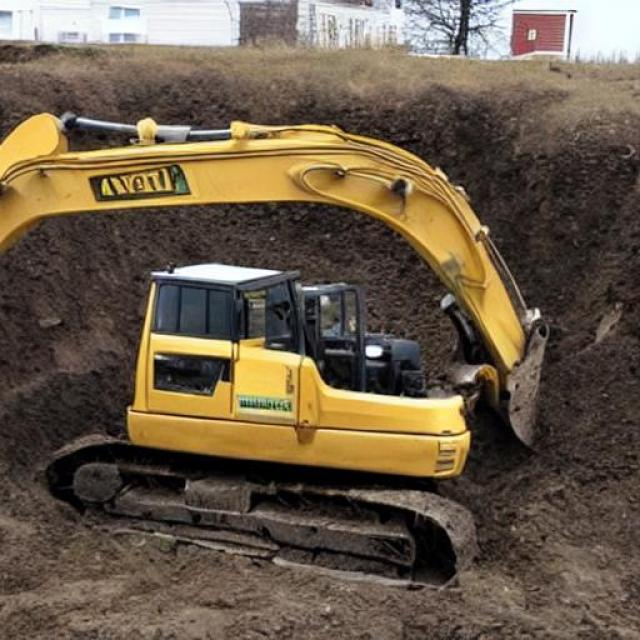excavator: (280, 235, 431, 566)
